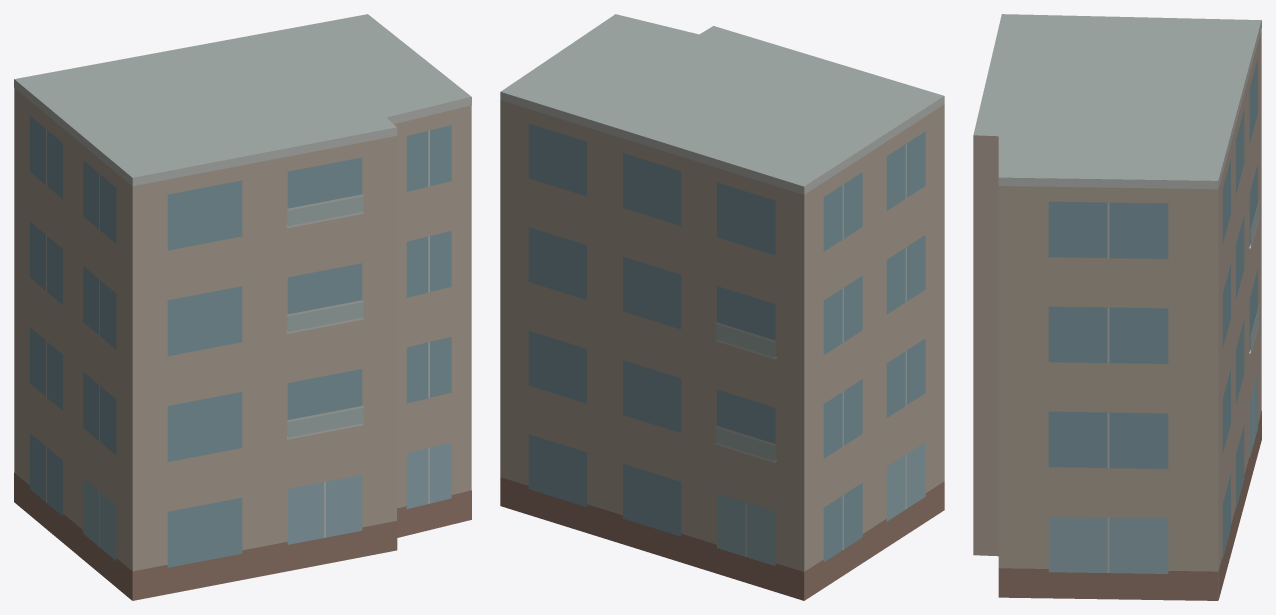
File: survey-upis-32468879.glb
3 views of the same model, side by side, from view 1: azimuth 30°, elevation 25°; view 2: azimuth 150°, elevation 25°; view 3: azimuth 270°, elevation 25° (orthographic). The views are drawn at different scales.
Parts seen in each view (by area): view 1: survey-upis-32468879.tmp; view 2: survey-upis-32468879.tmp; view 3: survey-upis-32468879.tmp.
Part boxes in pixels (x1,y1,x2,y2): survey-upis-32468879.tmp: (14, 14, 471, 600); survey-upis-32468879.tmp: (500, 14, 944, 600); survey-upis-32468879.tmp: (973, 14, 1261, 600).
Size of the model in its own units: 10.41 by 12.2 by 7.6.
